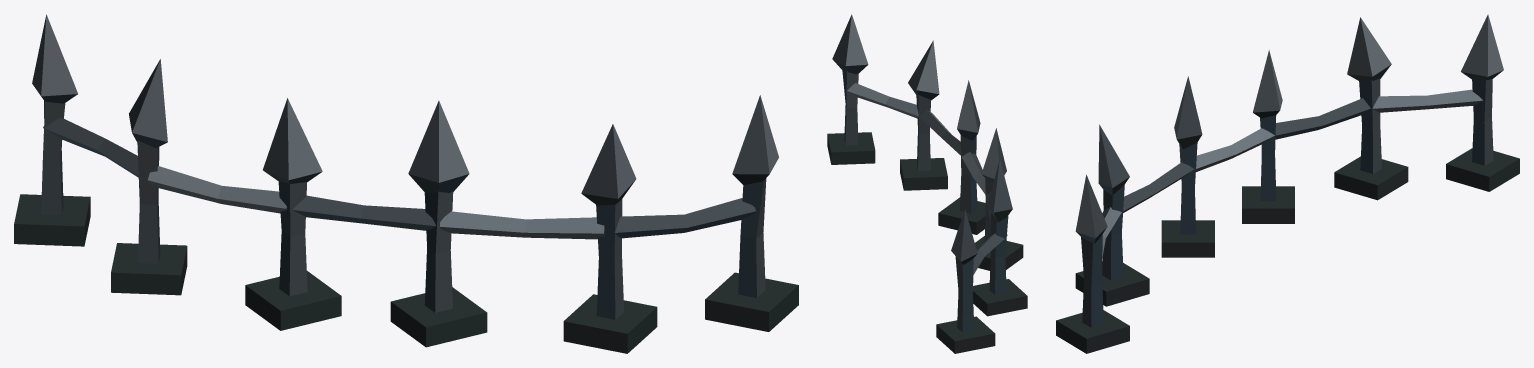
File: metal_spike_curve_small.fbx
3 views of the same model, side by side, from view 1: azimuth 30°, elevation 25°; view 2: azimuth 150°, elevation 25°; view 3: azimuth 270°, elevation 25° (orthographic). The views are drawn at different scales.
Visible parts, largest first — view 1: metal_spike_curve_small; view 2: metal_spike_curve_small; view 3: metal_spike_curve_small.
Part boxes in pixels (x1,y1,x2,y2): metal_spike_curve_small: (14, 14, 798, 353); metal_spike_curve_small: (827, 14, 1027, 353); metal_spike_curve_small: (1056, 14, 1519, 353).
Size of the model in its own units: 202 by 83.15 by 205.
